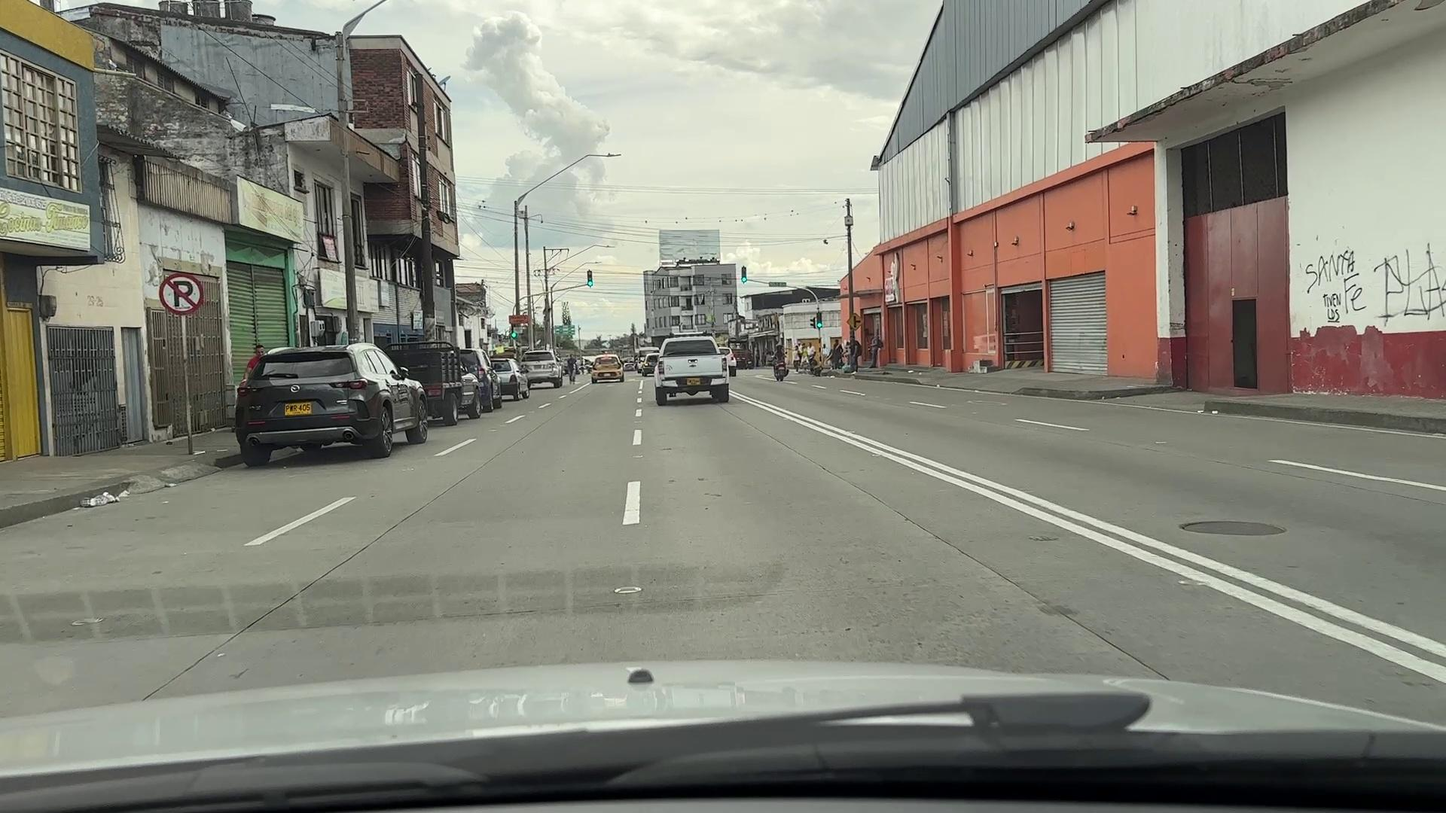registro: (1180, 521, 1286, 535)
